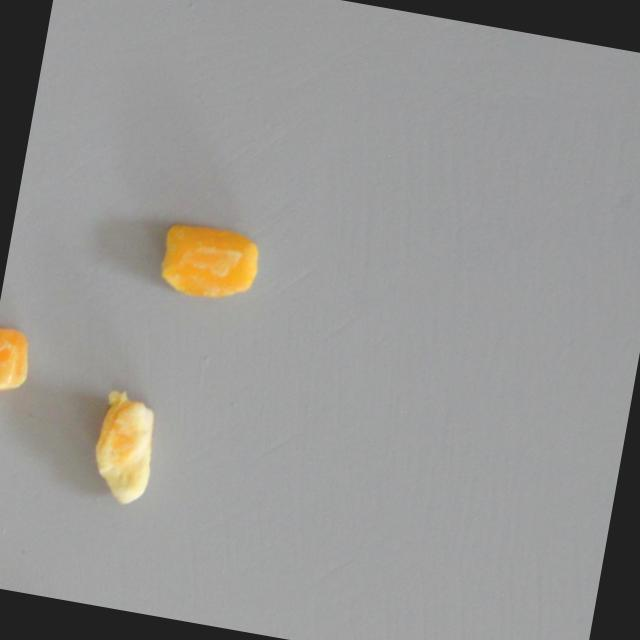pelicula: (144, 187, 271, 333), (53, 377, 180, 523), (0, 294, 57, 432)
